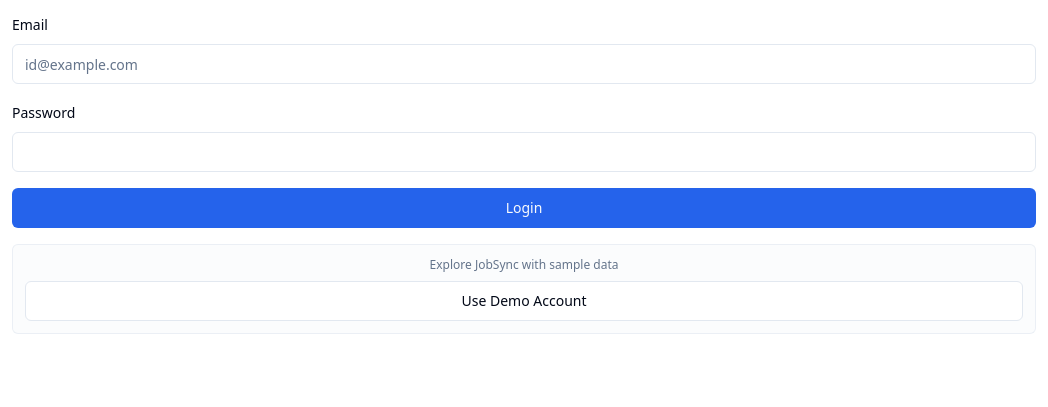
SigninForm Component › should display invalid email error
Step 1. Type "admin" into the field labelled "Email" → x=524, y=64, box [12,44,1036,84]
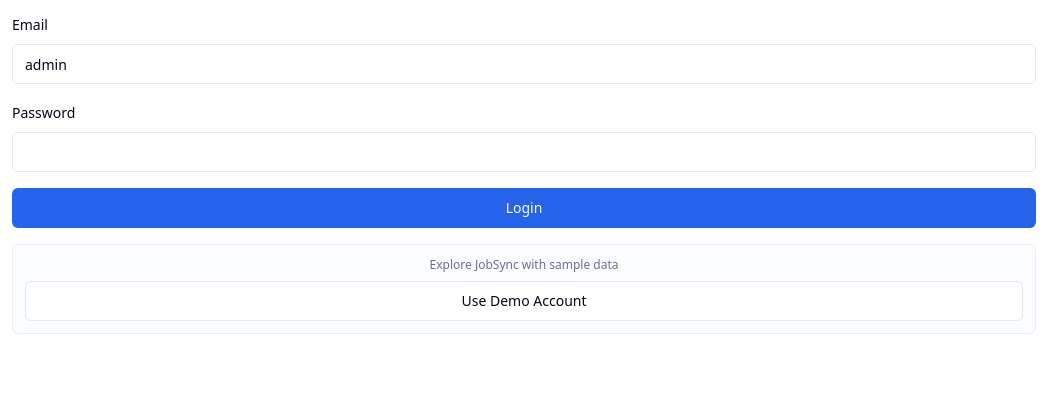
Step 2. Click the button "Login" → x=524, y=208, box [12,188,1036,228]
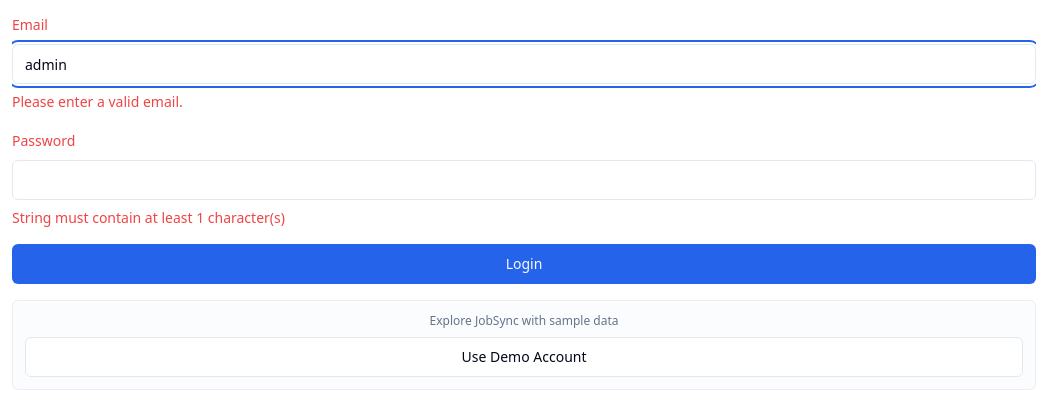
Check: the text "Please enter a valid email." is shown, box [12,92,183,111]
